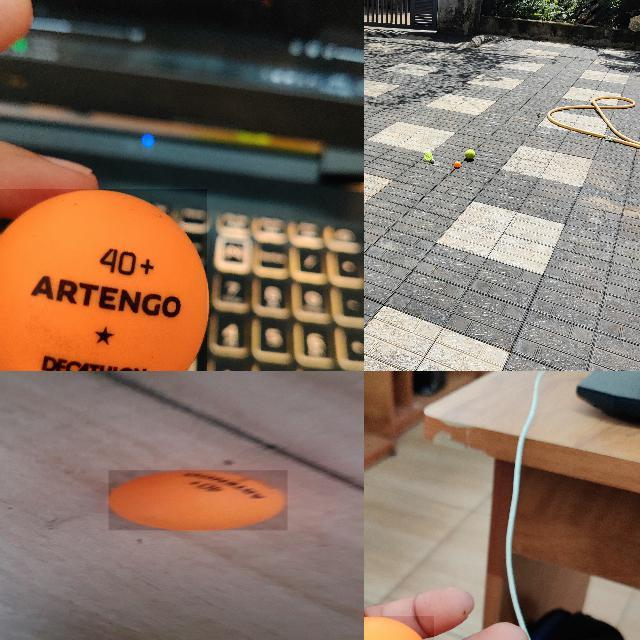ping-pong-ball: (0, 189, 208, 370), (108, 470, 289, 531), (452, 160, 460, 168)
